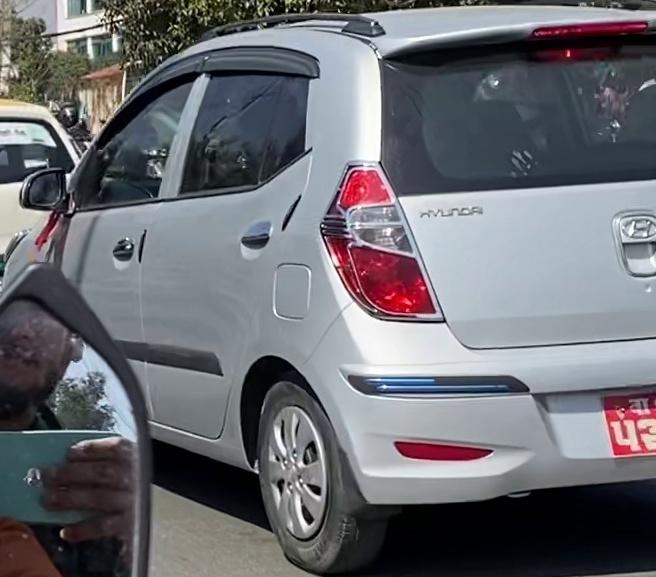license-plate: (592, 381, 656, 464)
